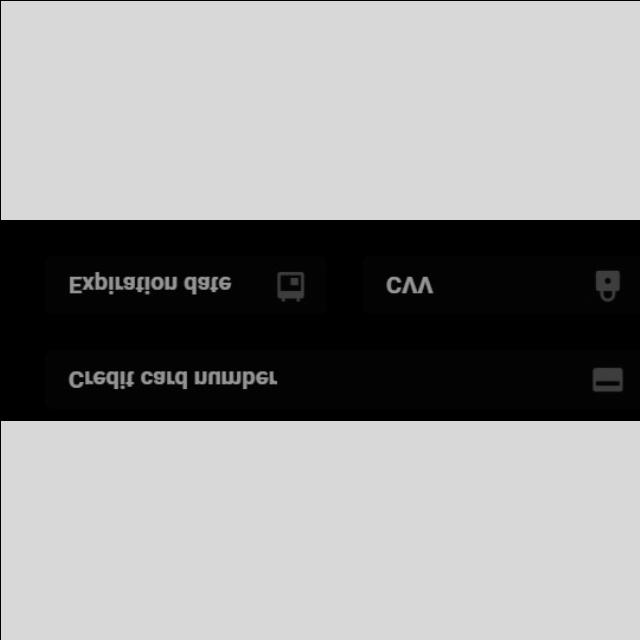VInlineDatepicker: (42, 254, 328, 316)
VTextField: (42, 349, 640, 411), (360, 252, 640, 318)
